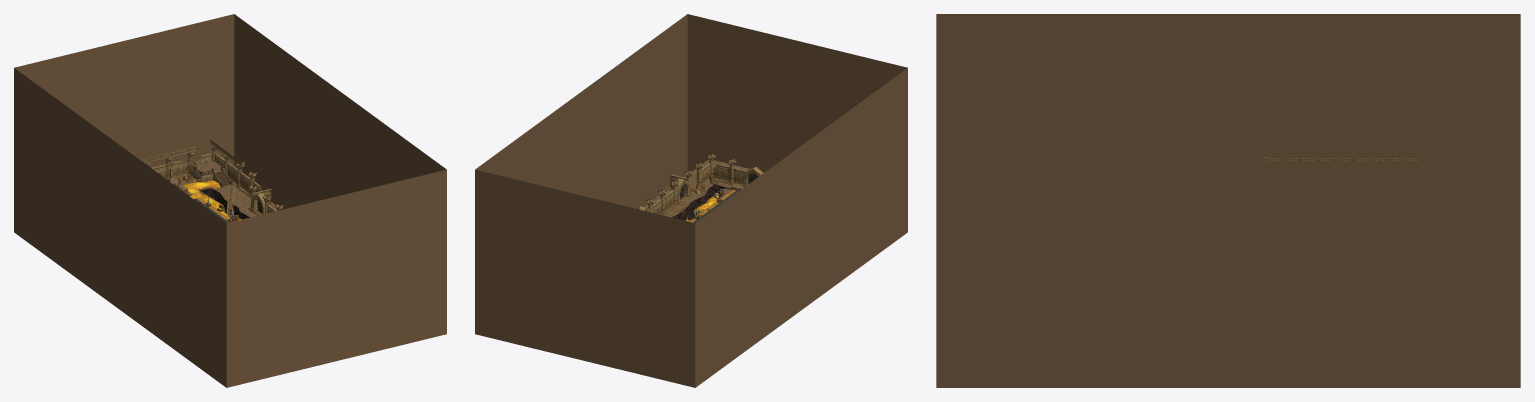
Rendered from Scene_goldroom.fbx.
3 views of the same model, side by side, from view 1: azimuth 30°, elevation 25°; view 2: azimuth 150°, elevation 25°; view 3: azimuth 270°, elevation 25° (orthographic). The views are drawn at different scales.
Parts seen in each view (by area): view 1: Scene_shamo_d1, Scene_shamo_c1, Scene_goldroom_a1, Scene_shamo_a1; view 2: Scene_shamo_d1, Scene_shamo_c1, Scene_goldroom_a1, Scene_shamo_a1; view 3: Scene_shamo_d1, Scene_shamo_c1.
Part boxes in pixels (x1,y1,x2,y2): Scene_shamo_d1: (14,14,446,387); Scene_shamo_c1: (140,139,283,215); Scene_goldroom_a1: (183,180,261,223); Scene_shamo_a1: (168,167,249,221); Scene_shamo_d1: (475,14,907,387); Scene_shamo_c1: (636,153,763,215); Scene_goldroom_a1: (680,173,758,223); Scene_shamo_a1: (672,184,731,220); Scene_shamo_d1: (936,14,1520,387); Scene_shamo_c1: (1265,157,1422,161).
Size of the model in its own units: 4671 by 3337 by 7806.
